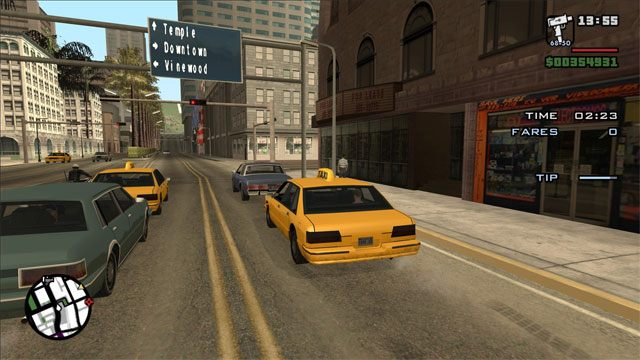car: (1, 179, 151, 316), (268, 180, 427, 274), (84, 163, 172, 219), (230, 160, 297, 204), (45, 151, 73, 166), (90, 150, 114, 162)
